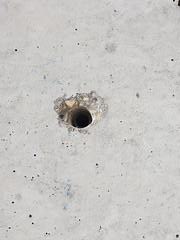Spalling: (52, 90, 109, 135)
